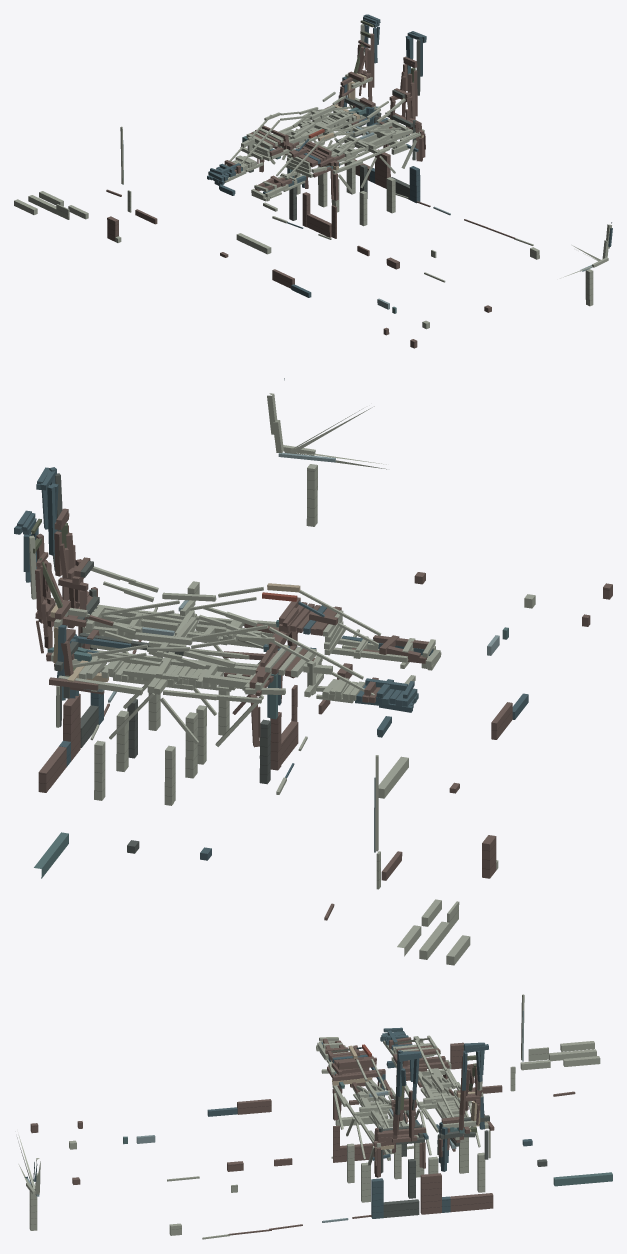
The model's file is terminal-30---115_-19.glb.
The picture shows the model from 3 angles, top to bottom: view 1: azimuth 30°, elevation 25°; view 2: azimuth 150°, elevation 25°; view 3: azimuth 270°, elevation 25°; orthographic projection. The views are drawn at different scales.
Visible parts, largest first — view 1: measured-industrial; view 2: measured-industrial; view 3: measured-industrial.
Part boxes in pixels (left/top/right/bottom): measured-industrial: left=14, top=14, right=612, bottom=348; measured-industrial: left=14, top=378, right=612, bottom=965; measured-industrial: left=17, top=994, right=612, bottom=1239.
Bounding box in the file's own units: 204 × 84.68 × 262.
